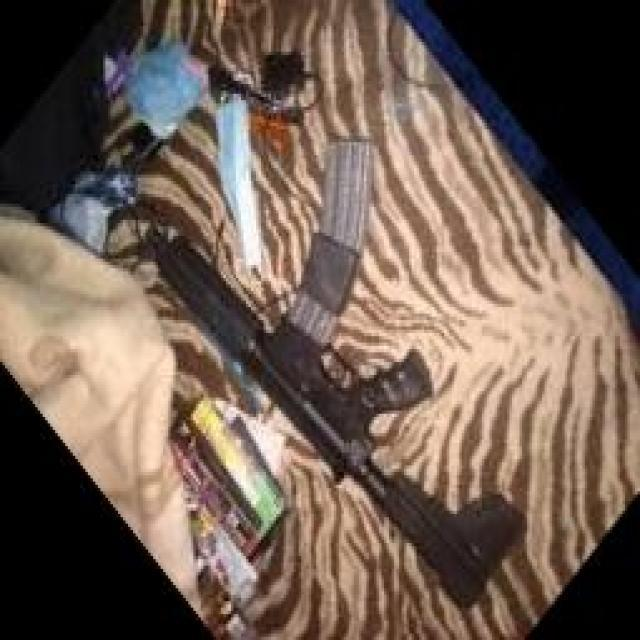Rifle: (144, 138, 526, 612)
